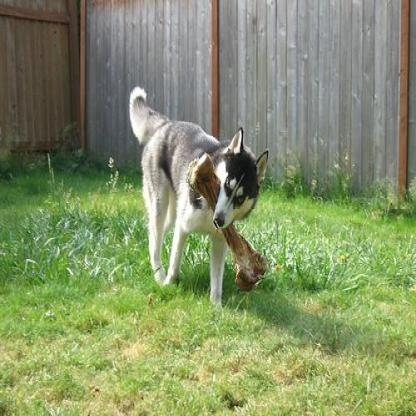Siberian_husky: (127, 84, 269, 302)
